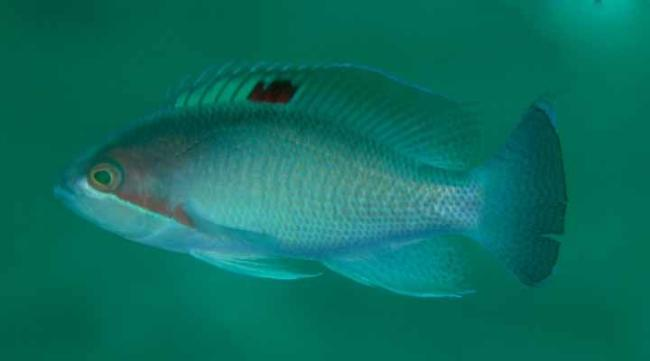fish: (54, 58, 569, 299)
